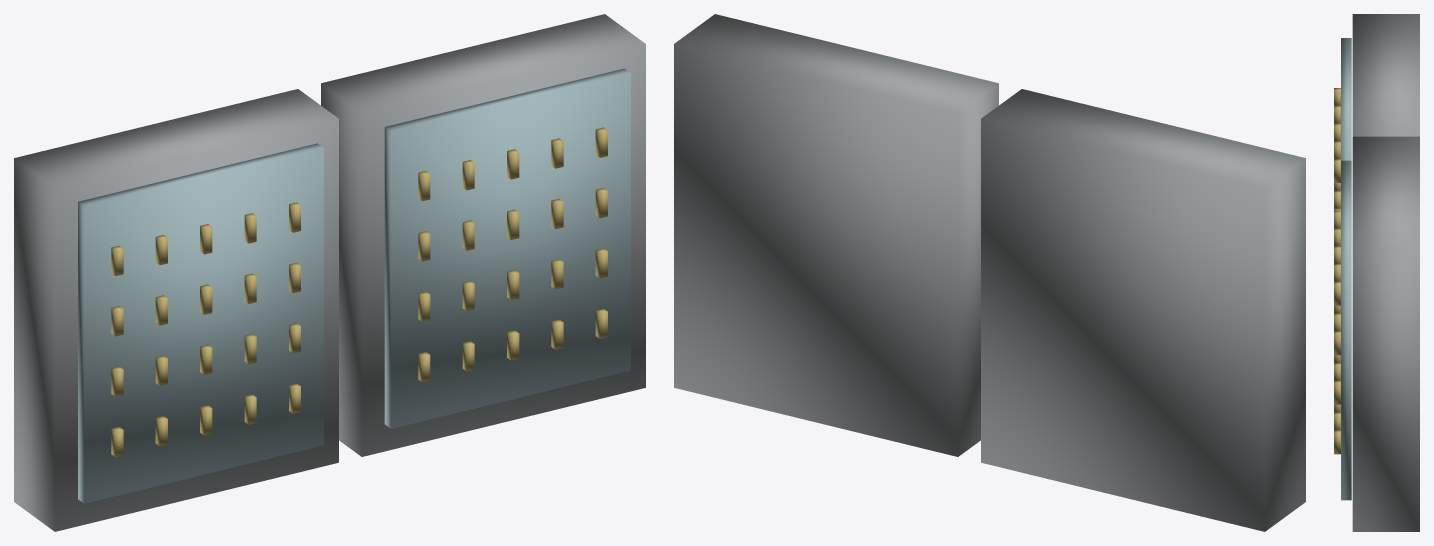
The model's file is wall_key_cabinet__cluster.glb.
3 views of the same model, side by side, from view 1: azimuth 30°, elevation 25°; view 2: azimuth 150°, elevation 25°; view 3: azimuth 270°, elevation 25° (orthographic). The views are drawn at different scales.
Visible parts, largest first — view 1: world; view 2: world; view 3: world.
Part boxes in pixels (left/top/right/bottom): world: left=14, top=14, right=645, bottom=531; world: left=674, top=14, right=1305, bottom=531; world: left=1334, top=14, right=1419, bottom=531.
Bounding box in the file's own units: 1.33 × 0.74 × 0.204.
